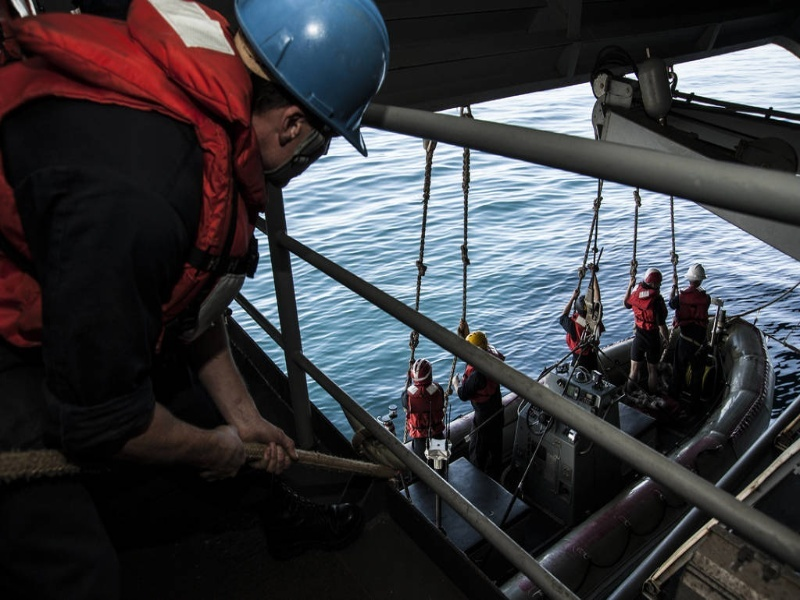baret: (232, 1, 393, 158), (681, 263, 709, 281)
